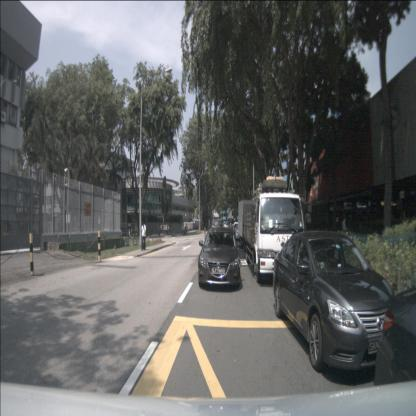human-pedestrian-adult: (342, 217, 348, 243), (141, 222, 146, 251), (183, 227, 187, 236), (181, 224, 184, 235), (158, 224, 160, 236), (185, 224, 187, 234)
vehicle-car: (273, 231, 399, 372), (198, 228, 240, 288), (235, 224, 244, 240)
vehicle-truck: (245, 192, 304, 284), (237, 200, 268, 254)
